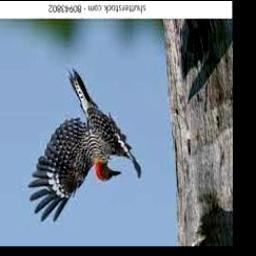Woodpecker: (27, 69, 141, 222)
